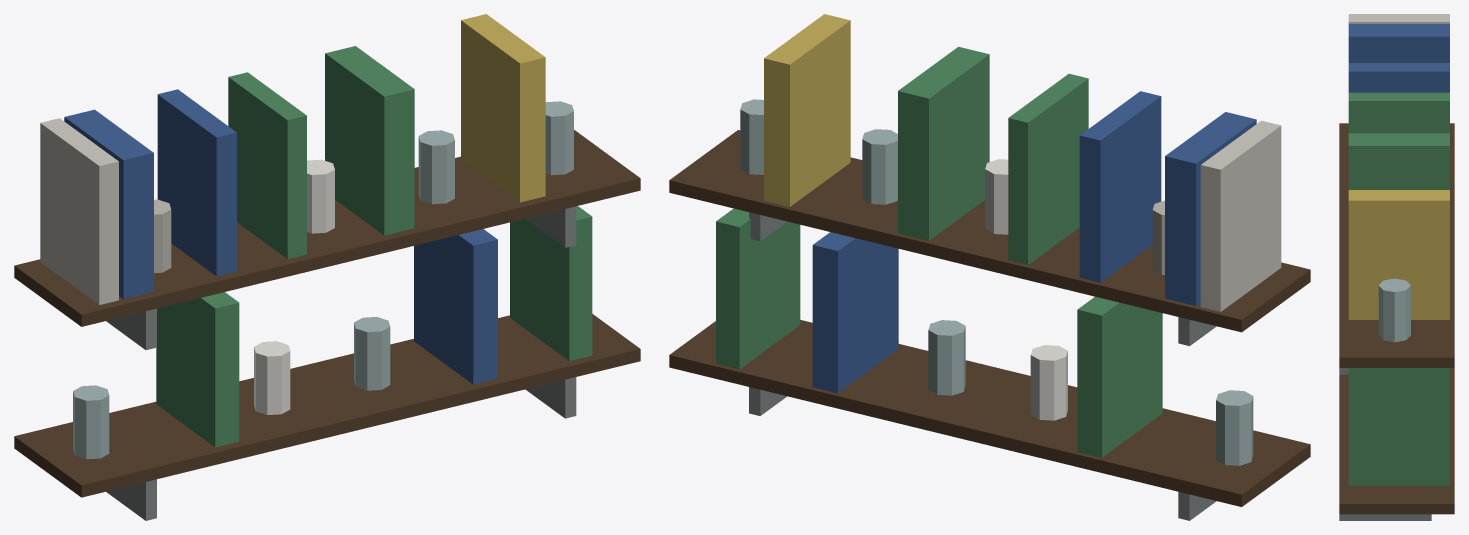
File: wall_shelf.fbx
3 renders of one model, left to right at view 1: azimuth 30°, elevation 25°; view 2: azimuth 150°, elevation 25°; view 3: azimuth 270°, elevation 25°, orthographic. The views are drawn at different scales.
Visible parts, largest first — view 1: wall_shelf; view 2: wall_shelf; view 3: wall_shelf.
Boxes of the visible parts, <box> form: wall_shelf: <box>14,14,640,520</box>; wall_shelf: <box>669,14,1310,520</box>; wall_shelf: <box>1339,14,1454,520</box>.
Size of the model in its own units: 1.2 by 0.74 by 0.25.
